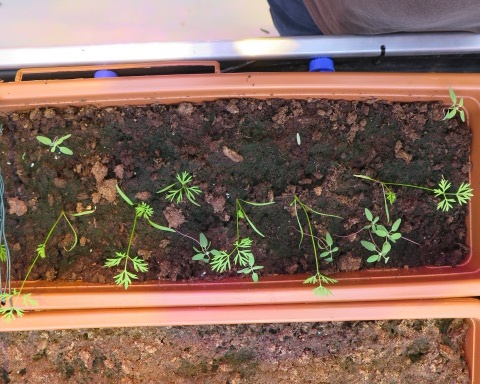crop: (1, 195, 98, 321), (347, 170, 474, 219), (107, 185, 167, 288), (210, 191, 273, 272), (290, 191, 339, 294), (156, 170, 204, 208)
weed: (174, 229, 216, 262), (32, 131, 75, 157), (375, 221, 409, 250), (360, 237, 393, 264), (442, 87, 467, 122), (314, 232, 340, 264), (237, 253, 266, 280), (358, 206, 381, 235)
